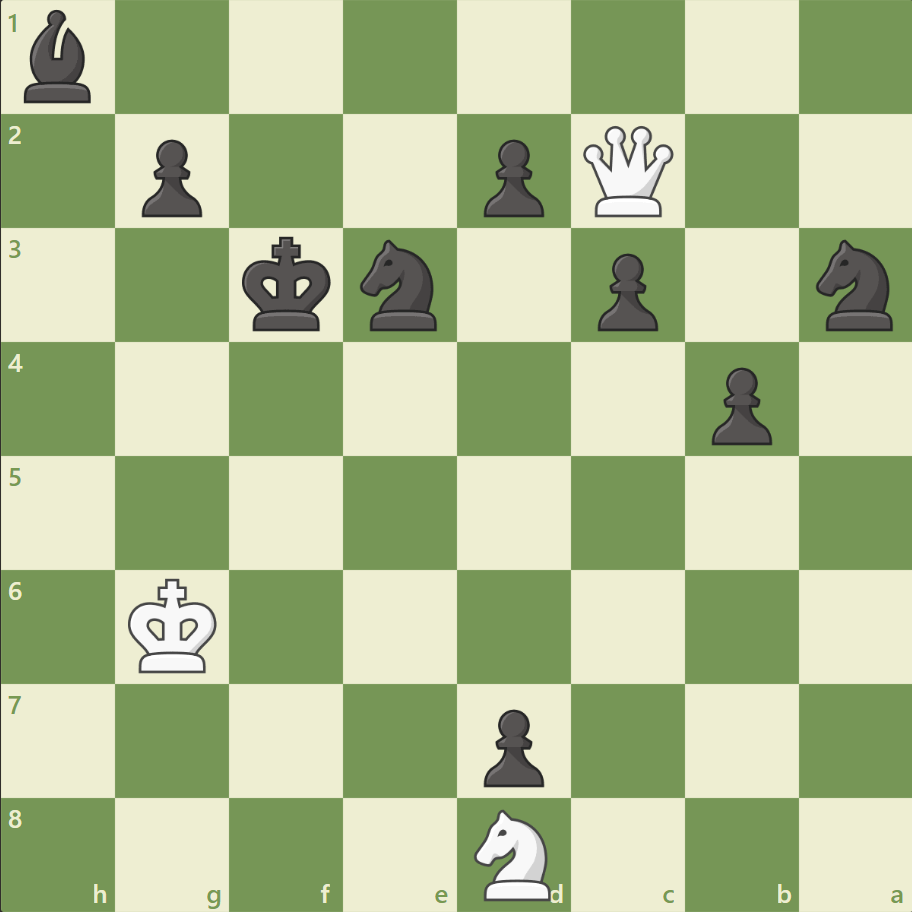K: (124, 571, 224, 679)
N: (465, 802, 562, 904)
Q: (578, 122, 677, 222)
b: (17, 6, 101, 109)
k: (238, 231, 338, 339)
n: (351, 234, 449, 337), (806, 234, 903, 337)
p: (474, 700, 549, 791), (701, 359, 776, 450), (474, 132, 549, 223), (133, 132, 208, 223), (588, 246, 662, 337)
